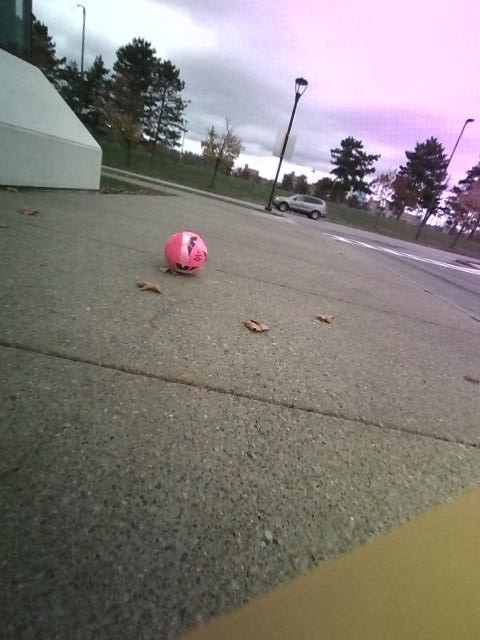ball: (164, 231, 206, 273)
